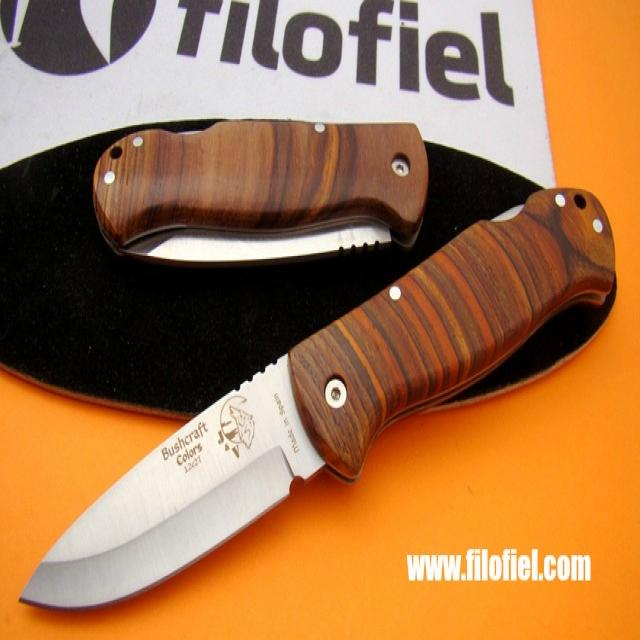knife: (14, 185, 617, 624)
